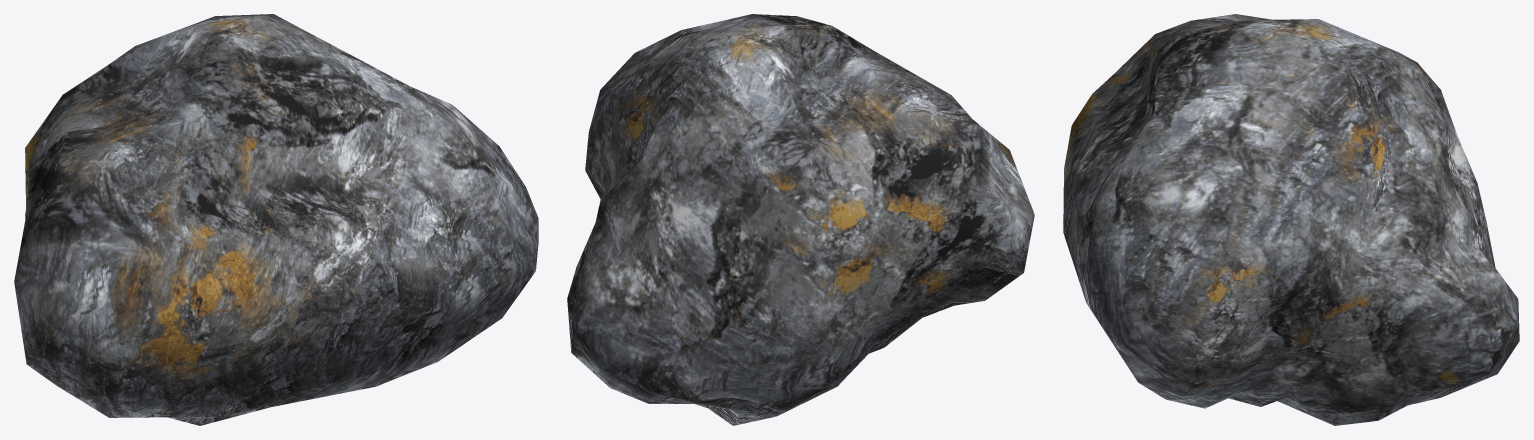
Rendered from rock.gltf.
The picture shows the model from 3 angles, left to right: view 1: azimuth 30°, elevation 25°; view 2: azimuth 150°, elevation 25°; view 3: azimuth 270°, elevation 25°; orthographic projection. The views are drawn at different scales.
Visible parts, largest first — view 1: Object_3; view 2: Object_3; view 3: Object_3.
Part boxes in pixels (x1,y1,x2,y2): Object_3: (14, 14, 538, 425); Object_3: (567, 14, 1034, 425); Object_3: (1063, 14, 1519, 425).
Bounding box in the file's own units: 2.81 × 2.25 × 2.37.
Materials: 1 (1 with a texture image).
